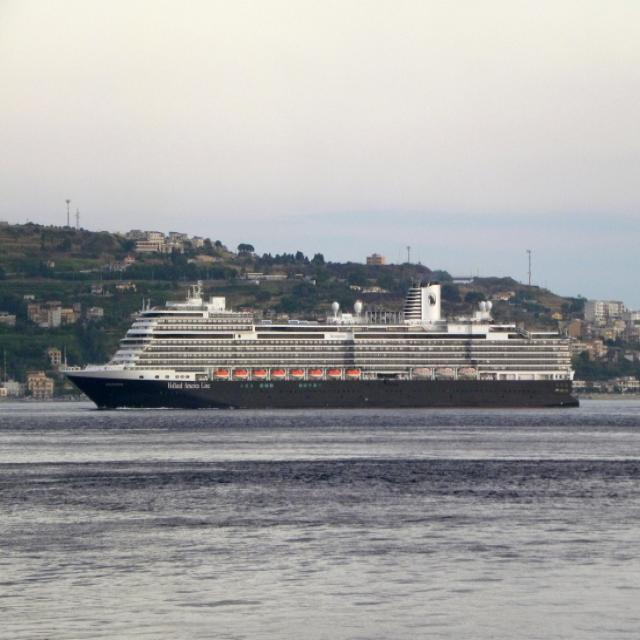cruises: (56, 275, 583, 417)
